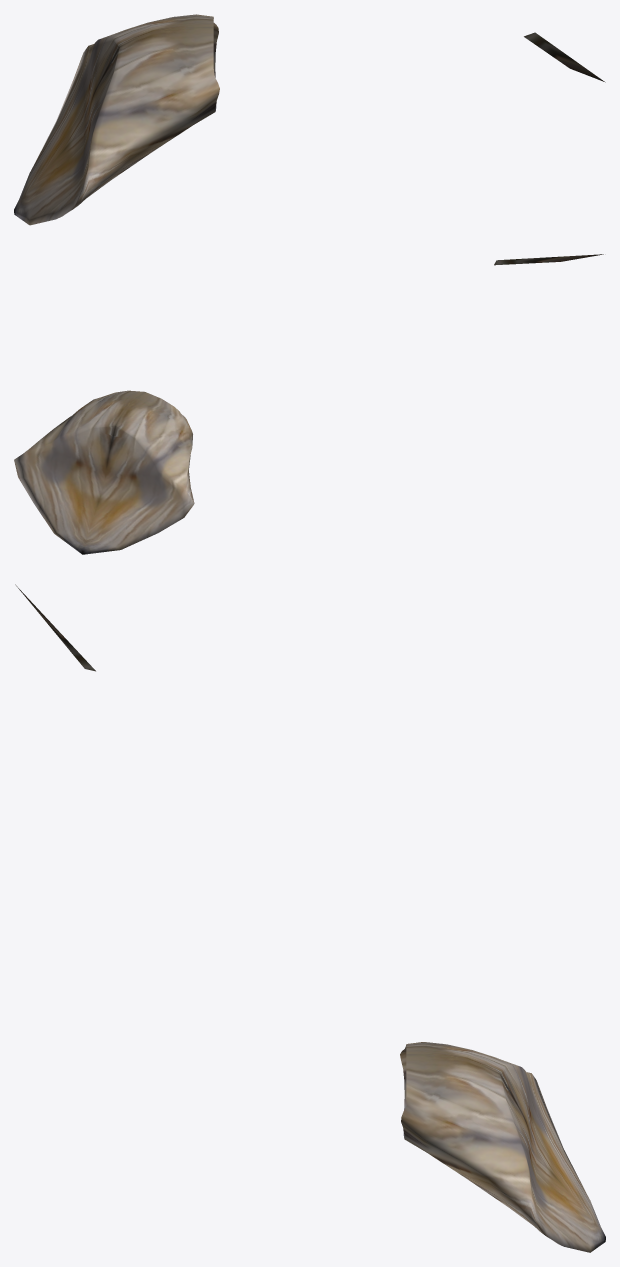
File: tail.obj
The picture shows the model from 3 angles, top to bottom: view 1: azimuth 90°, elevation 25°; view 2: azimuth 150°, elevation 25°; view 3: azimuth 270°, elevation 25°; orthographic projection. The views are drawn at different scales.
Visible parts, largest first — view 1: Flugel_Plane.003; view 2: Flugel_Plane.003; view 3: Flugel_Plane.003.
Boxes of the visible parts, bbox=[...] form: Flugel_Plane.003: bbox=[14, 14, 605, 225]; Flugel_Plane.003: bbox=[14, 254, 603, 554]; Flugel_Plane.003: bbox=[15, 584, 605, 1252].
Size of the model in its own units: 5.59 by 3.09 by 4.19.
